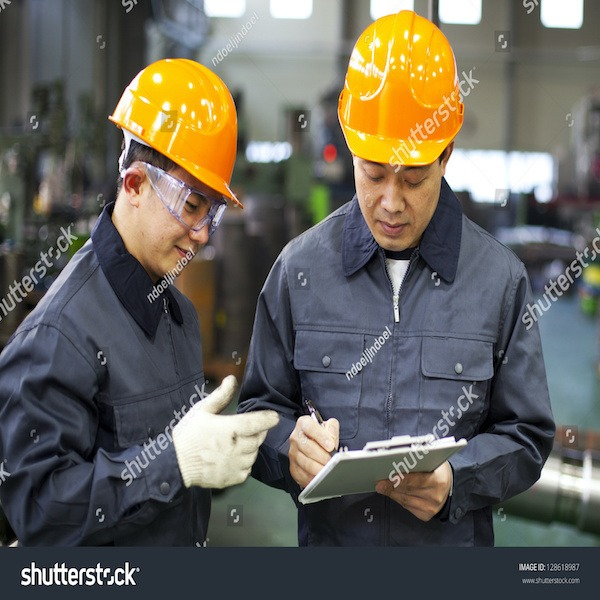helmet: (339, 14, 467, 165), (109, 60, 244, 200)
